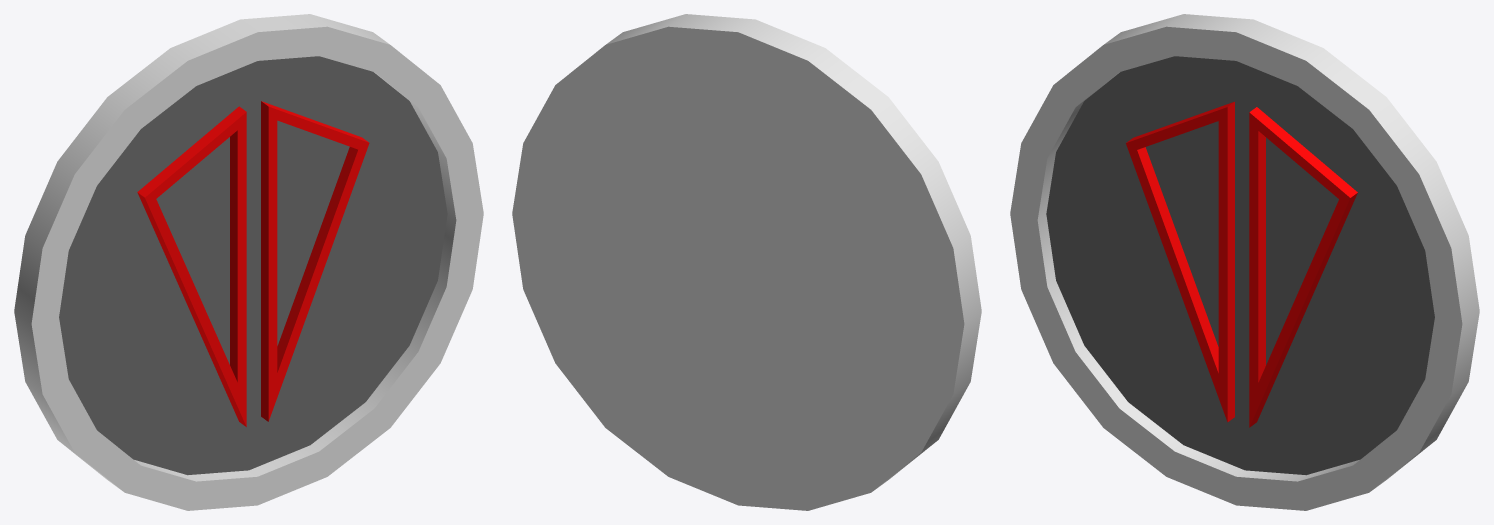
File: Scifi-Temple-AltarSymbol.fbx
The picture shows the model from 3 angles, left to right: view 1: azimuth 30°, elevation 25°; view 2: azimuth 150°, elevation 25°; view 3: azimuth 330°, elevation 25°; orthographic projection.
Visible parts, largest first — view 1: AltarSymbol, pCube1, pCube2; view 2: AltarSymbol; view 3: AltarSymbol, pCube2, pCube1.
Part boxes in pixels (bbox=[...]): AltarSymbol: bbox=[14, 14, 483, 510]; pCube1: bbox=[261, 101, 369, 421]; pCube2: bbox=[137, 106, 246, 426]; AltarSymbol: bbox=[512, 14, 981, 510]; AltarSymbol: bbox=[1010, 14, 1479, 510]; pCube2: bbox=[1126, 101, 1234, 422]; pCube1: bbox=[1249, 107, 1357, 427].
Size of the model in its own units: 1.5 by 1.5 by 0.1.
